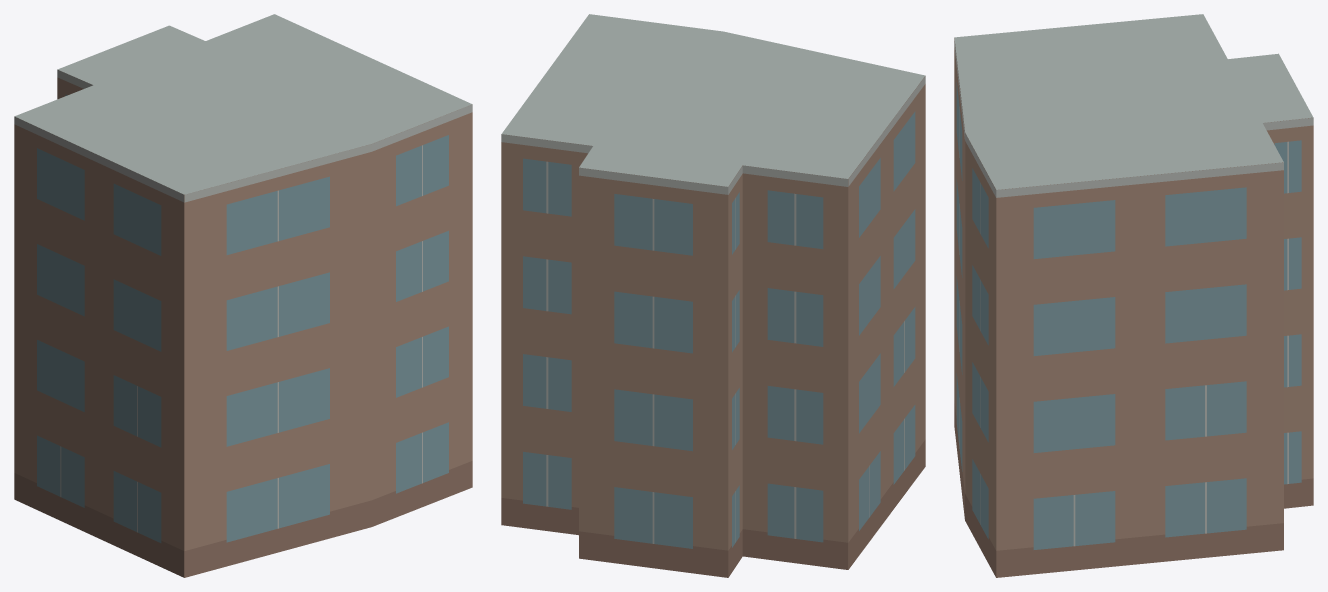
File: survey-upis-32963360.glb
3 renders of one model, left to right at view 1: azimuth 30°, elevation 25°; view 2: azimuth 150°, elevation 25°; view 3: azimuth 270°, elevation 25°, orthographic. The views are drawn at different scales.
Parts seen in each view (by area): view 1: survey-upis-32963360.tmp; view 2: survey-upis-32963360.tmp; view 3: survey-upis-32963360.tmp.
Part boxes in pixels (x1=…): survey-upis-32963360.tmp: x1=14, y1=14, x2=472, y2=577; survey-upis-32963360.tmp: x1=501, y1=14, x2=925, y2=577; survey-upis-32963360.tmp: x1=954, y1=14, x2=1313, y2=577.
Bounding box in the file's own units: 11.59 × 11.9 × 10.
